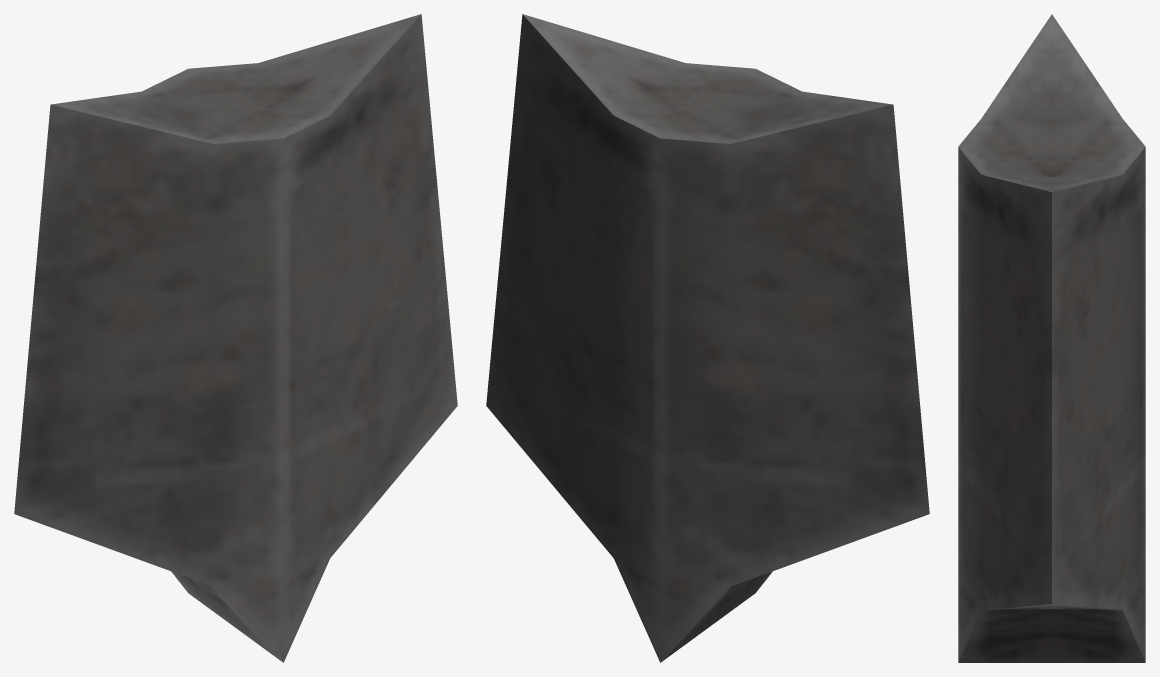
File: sm_dwarf_erebor_spear_pommel_a.fbx
3 views of the same model, side by side, from view 1: azimuth 30°, elevation 25°; view 2: azimuth 150°, elevation 25°; view 3: azimuth 270°, elevation 25° (orthographic).
Visible parts, largest first — view 1: sm_dwarf_erebor_spear_pommel_a; view 2: sm_dwarf_erebor_spear_pommel_a; view 3: sm_dwarf_erebor_spear_pommel_a.
Part boxes in pixels (<box>): sm_dwarf_erebor_spear_pommel_a: <box>14,14,457,662</box>; sm_dwarf_erebor_spear_pommel_a: <box>486,14,929,662</box>; sm_dwarf_erebor_spear_pommel_a: <box>958,14,1145,662</box>.
Size of the model in its own units: 0.0806 by 0.03 by 0.0988.
1 material, 1 textured.
